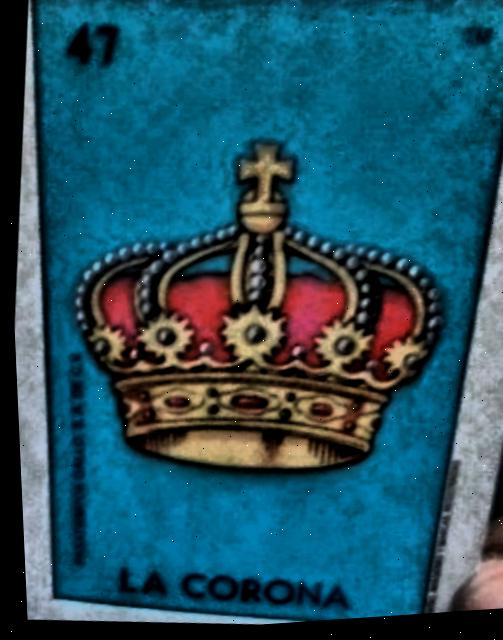La Corona: (41, 0, 503, 623)
